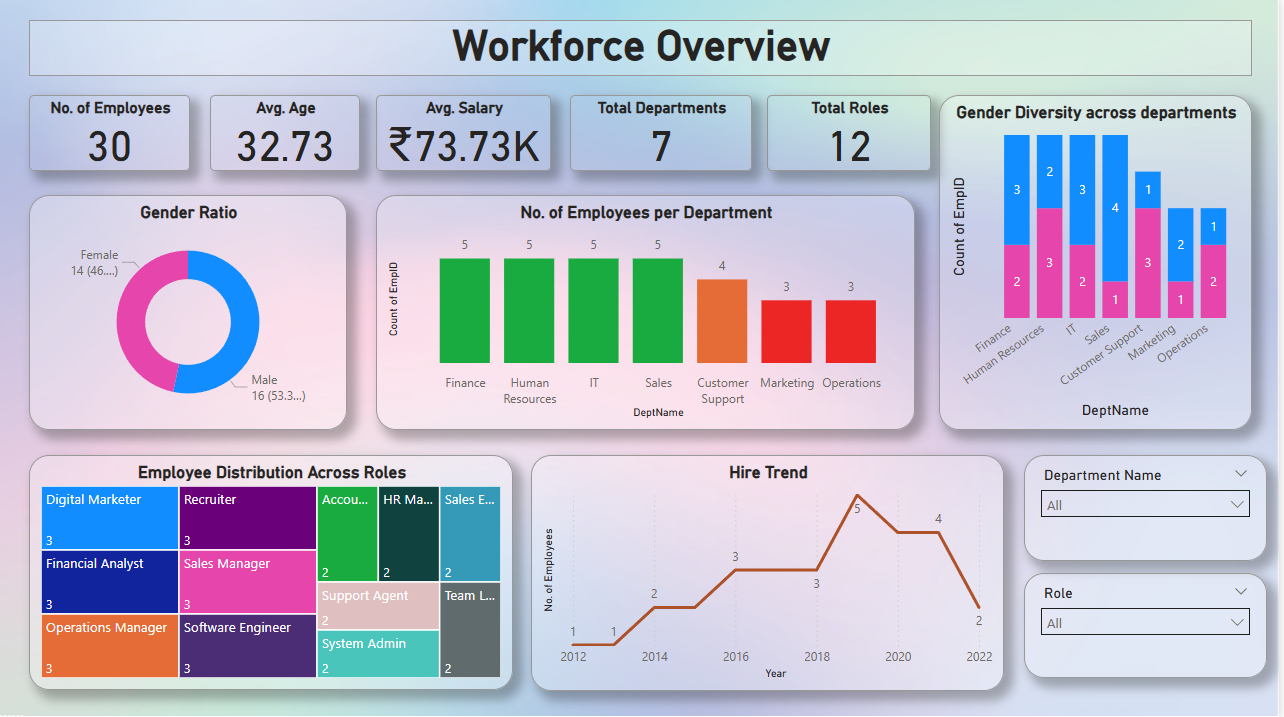

The dashboard page shown, as its layout file describes it:
{"tool":"powerbi","page":{"name":"Workforce","canvas":[1280,720],"ordinal":0},"visuals":[{"type":"card","title":"No. of Employees","fields":{"Values":["CountNonNull(Employees.EmpID)"]},"box":[29.6,97,161.6,76.3],"z":0},{"type":"card","title":"Avg. Age","fields":{"Values":["Avg(Employees.Age)"]},"box":[211,97,149.9,76.3],"z":1000},{"type":"donutChart","title":"Gender Ratio","fields":{"Y":["CountNonNull(Employees.Gender)"],"Category":["Employees.Gender"]},"box":[29.6,196.6,318.7,235.2],"z":2000},{"type":"card","title":"Workforce Overview","fields":{"Values":["CountNonNull(Employees.FirstName)"]},"box":[29.6,21.5,1223.6,56.6],"z":3000},{"type":"card","title":"Avg. Salary","fields":{"Values":["Avg(Salaries.BaseSalary)"]},"box":[377.1,97,175.1,76.3],"z":4000},{"type":"treemap","title":"Employee Distribution Across Roles","fields":{"Group":["JobRoles.RoleName"],"Values":["CountNonNull(Employees.EmpID)"]},"box":[29.6,457,484.8,235.2],"z":5000},{"type":"clusteredColumnChart","title":"No. of Employees per Department","fields":{"Y":["CountNonNull(Employees.EmpID)"],"Category":["Departments.DeptName"]},"box":[377.1,196.6,538.7,235.2],"z":6000},{"type":"lineChart","title":"Hire Trend","fields":{"Category":["Employees.HireDate.Variation.Date Hierarchy.Year"],"Y":["CountNonNull(Employees.EmpID)"]},"box":[532.4,457,472.2,236.1],"z":7000},{"type":"card","title":"Total Roles","fields":{"Values":["Count(Employees.RoleID)"]},"box":[768.5,97,163.4,76.3],"z":8000},{"type":"columnChart","title":"Gender  Diversity across departments","fields":{"Category":["Departments.DeptName"],"Y":["CountNonNull(Employees.EmpID)"],"Series":["Employees.Gender"]},"box":[940,97,313.3,334.9],"z":9000},{"type":"card","title":"Total Departments","fields":{"Values":["CountNonNull(Departments.DeptID)"]},"box":[571,97,182.2,76.3],"z":10000},{"type":"slicer","title":"Gender  Diversity across departments","fields":{"Values":["Departments.DeptName"]},"box":[1025.2,457,242.4,105.9],"z":11000},{"type":"slicer","title":"Gender  Diversity across departments","fields":{"Values":["JobRoles.RoleName"]},"box":[1025.2,574.6,242.4,105.9],"z":12000}]}

Visuals, with their boxes in screenshot pixels (x1, y1, x2, y2), scaled from the page's 1280x720 canvas onto the 1284x717 screenshot:
"No. of Employees" card: [x1=30, y1=97, x2=192, y2=173]
"Avg. Age" card: [x1=212, y1=97, x2=362, y2=173]
"Gender Ratio" donutChart: [x1=30, y1=196, x2=349, y2=430]
"Workforce Overview" card: [x1=30, y1=21, x2=1257, y2=78]
"Avg. Salary" card: [x1=378, y1=97, x2=554, y2=173]
"Employee Distribution Across Roles" treemap: [x1=30, y1=455, x2=516, y2=689]
"No. of Employees per Department" clusteredColumnChart: [x1=378, y1=196, x2=919, y2=430]
"Hire Trend" lineChart: [x1=534, y1=455, x2=1008, y2=690]
"Total Roles" card: [x1=771, y1=97, x2=935, y2=173]
"Gender  Diversity across departments" columnChart: [x1=943, y1=97, x2=1257, y2=430]
"Total Departments" card: [x1=573, y1=97, x2=756, y2=173]
"Gender  Diversity across departments" slicer: [x1=1028, y1=455, x2=1272, y2=561]
"Gender  Diversity across departments" slicer: [x1=1028, y1=572, x2=1272, y2=678]
